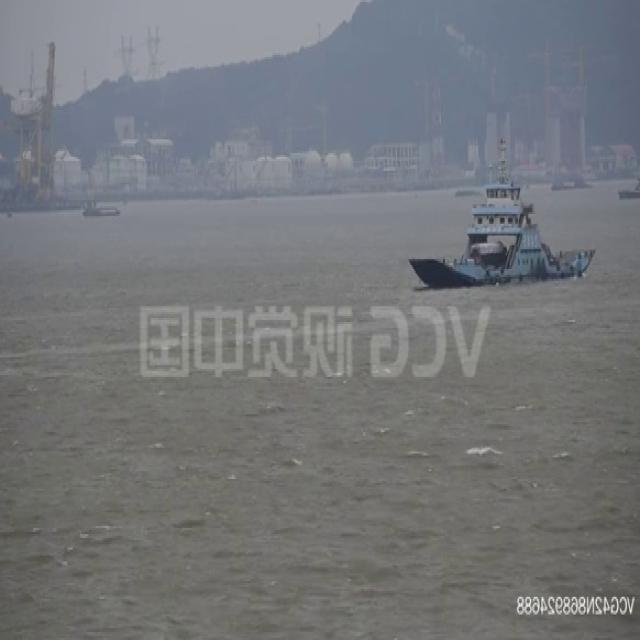cargoship: (413, 141, 599, 312)
